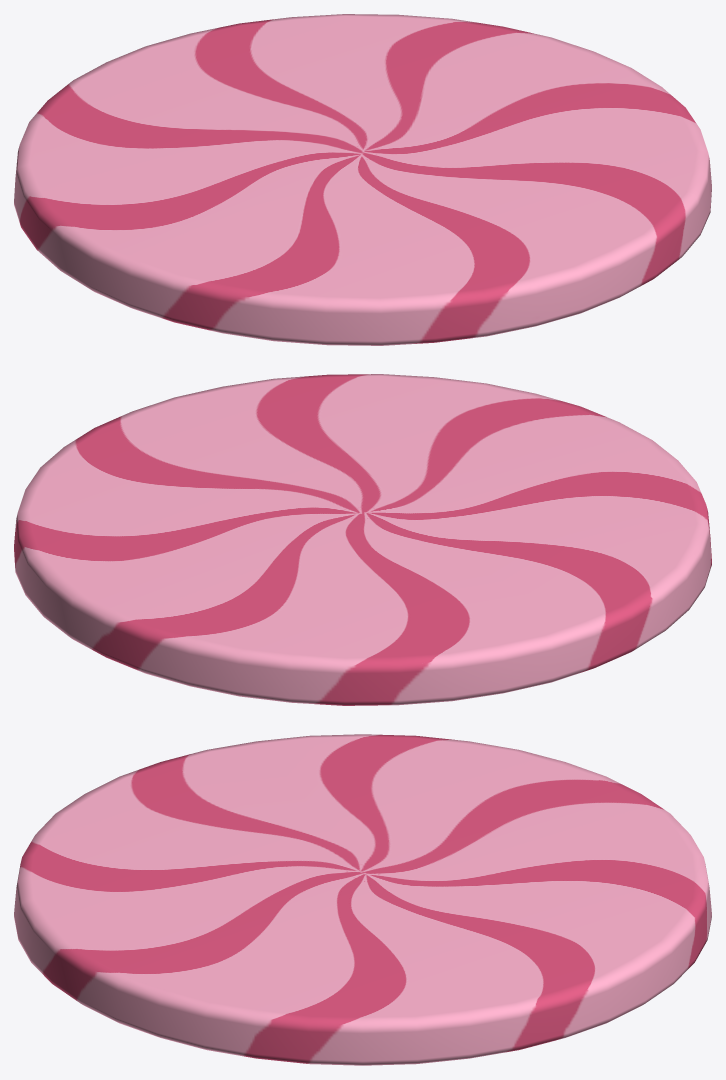
Rendered from Candy_FBX+Texture.fbx.
3 views of the same model, one above another, from view 1: azimuth 30°, elevation 25°; view 2: azimuth 150°, elevation 25°; view 3: azimuth 270°, elevation 25° (orthographic).
Visible parts, largest first — view 1: pCylinder3; view 2: pCylinder3; view 3: pCylinder3.
Part boxes in pixels (x1=…): pCylinder3: x1=14, y1=14, x2=711, y2=345; pCylinder3: x1=14, y1=374, x2=711, y2=705; pCylinder3: x1=14, y1=734, x2=711, y2=1065.
Size of the model in its own units: 234 by 20 by 234.
1 material, 1 textured.
